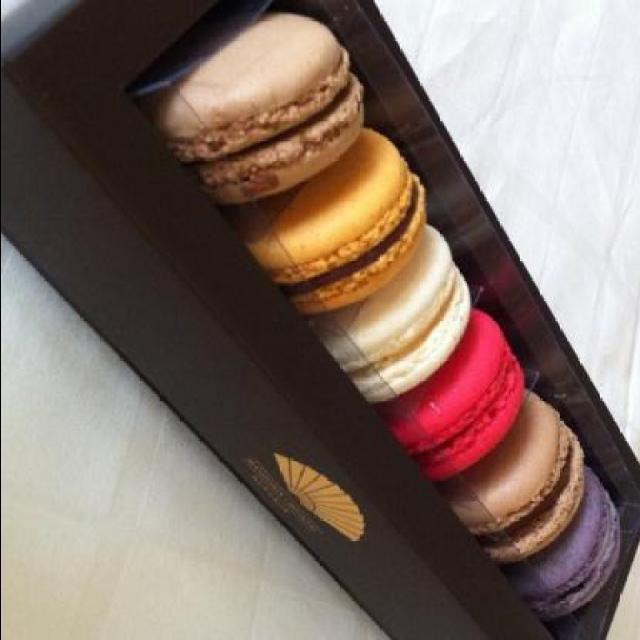Macaron: (158, 17, 622, 620)
